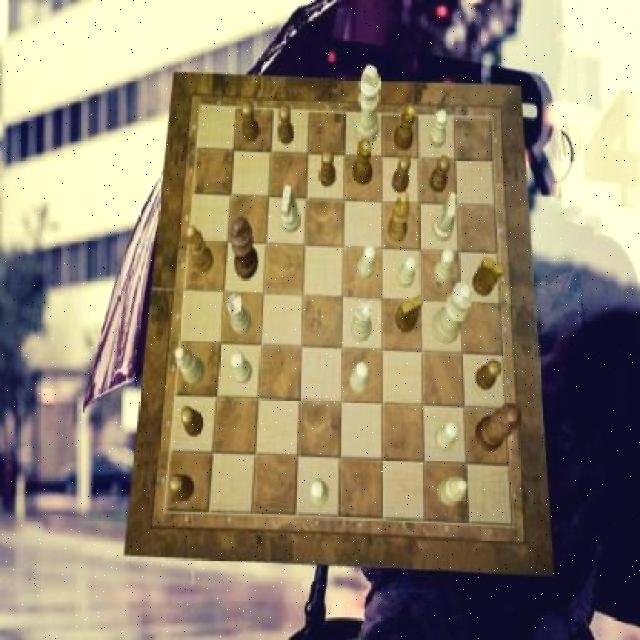bishop: (188, 227, 215, 276), (388, 191, 410, 243)
black-bishop: (231, 216, 260, 280)
black-king: (472, 257, 505, 295), (395, 295, 423, 333)
black-knight: (477, 360, 501, 392), (392, 155, 412, 193), (431, 156, 452, 192), (242, 103, 260, 143), (278, 104, 296, 144), (182, 406, 204, 437), (320, 149, 337, 188), (169, 474, 194, 500)
black-pawn: (476, 403, 522, 452)
black-queen: (394, 103, 417, 151), (354, 138, 374, 184)
black-rook: (176, 346, 206, 385), (438, 476, 468, 506)
white-bishop: (357, 64, 381, 144)
white-king: (432, 192, 457, 242), (280, 186, 300, 234)
white-knight: (230, 352, 252, 385), (397, 256, 418, 290), (434, 249, 454, 284), (437, 422, 460, 452), (358, 245, 378, 279), (431, 109, 448, 148), (349, 362, 368, 396), (311, 480, 328, 508)
white-pawn: (432, 281, 475, 344)
white-queen: (228, 294, 252, 335), (351, 303, 372, 343)
